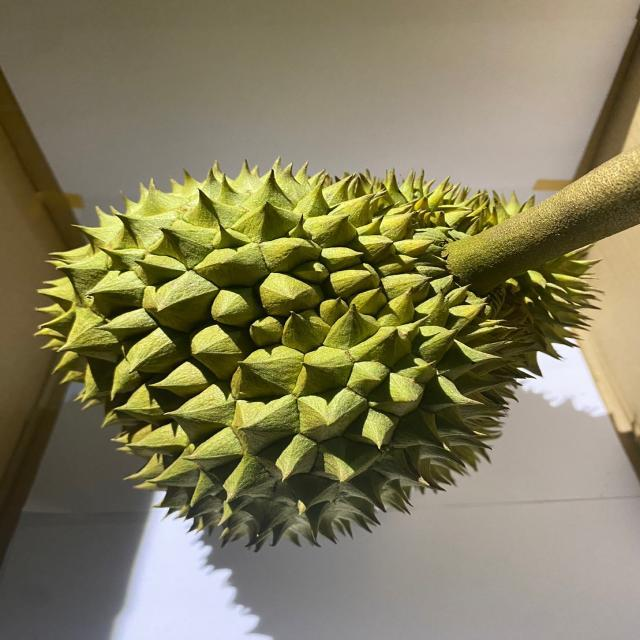immature: (30, 160, 600, 558)
